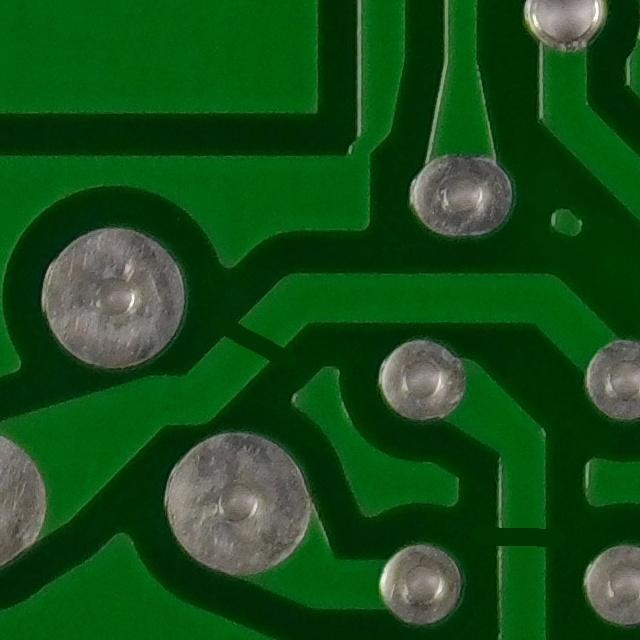open_circuit: (215, 307, 299, 384), (476, 505, 570, 562)
